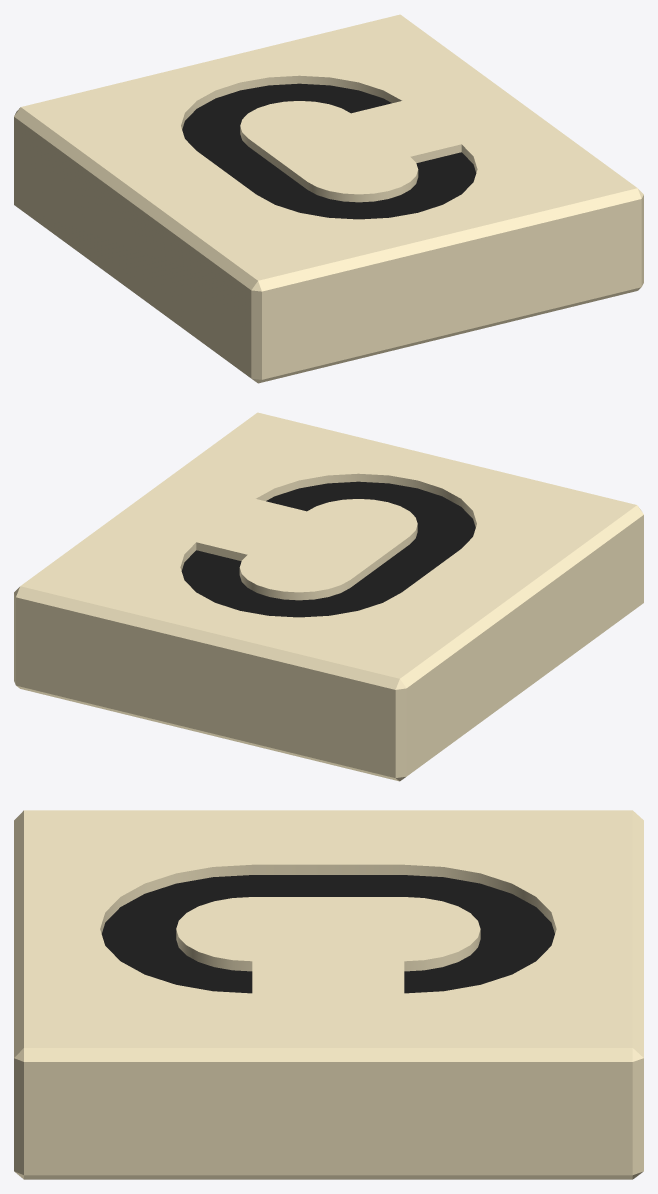
The model's file is Boardgame_Piece_Anagram_Letter_C_01.fbx.
3 renders of one model, top to bottom at view 1: azimuth 30°, elevation 25°; view 2: azimuth 150°, elevation 25°; view 3: azimuth 270°, elevation 25°, orthographic. The views are drawn at different scales.
Parts seen in each view (by area): view 1: Boardgame_Piece_Anagram_Letter_C_01; view 2: Boardgame_Piece_Anagram_Letter_C_01; view 3: Boardgame_Piece_Anagram_Letter_C_01.
Boxes of the visible parts, x1=… form: Boardgame_Piece_Anagram_Letter_C_01: x1=14, y1=14, x2=643, y2=383; Boardgame_Piece_Anagram_Letter_C_01: x1=14, y1=412, x2=643, y2=781; Boardgame_Piece_Anagram_Letter_C_01: x1=14, y1=810, x2=643, y2=1179.
Size of the model in its own units: 39.37 by 9.84 by 42.65.
